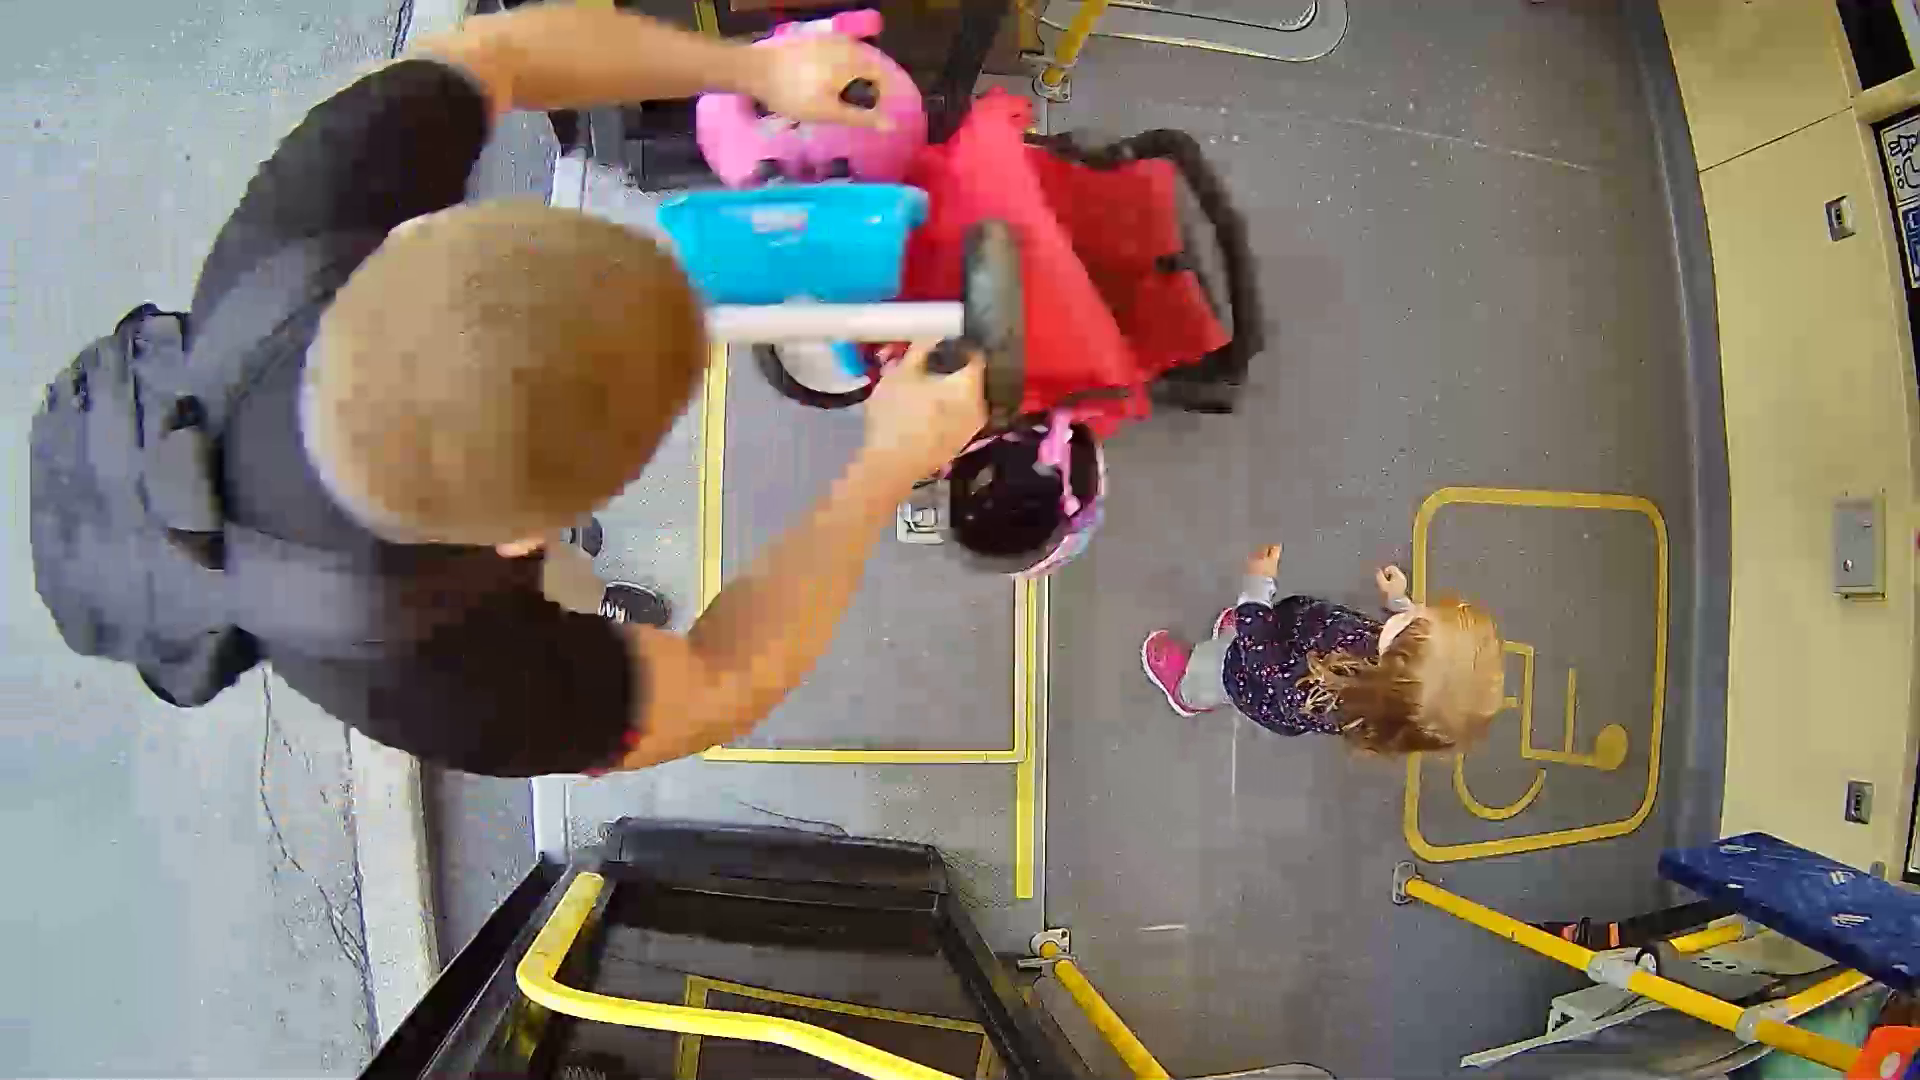person: (65, 13, 1234, 792), (1187, 511, 1583, 836)
